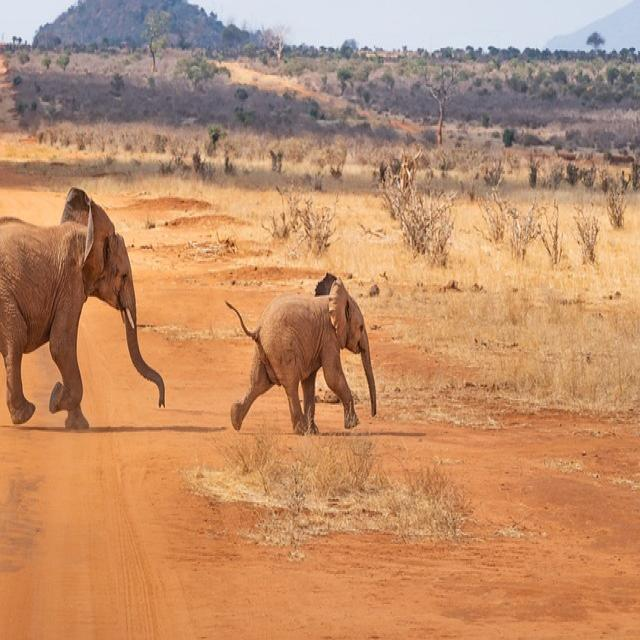Herbivorous: (0, 190, 164, 432), (229, 280, 379, 436)
